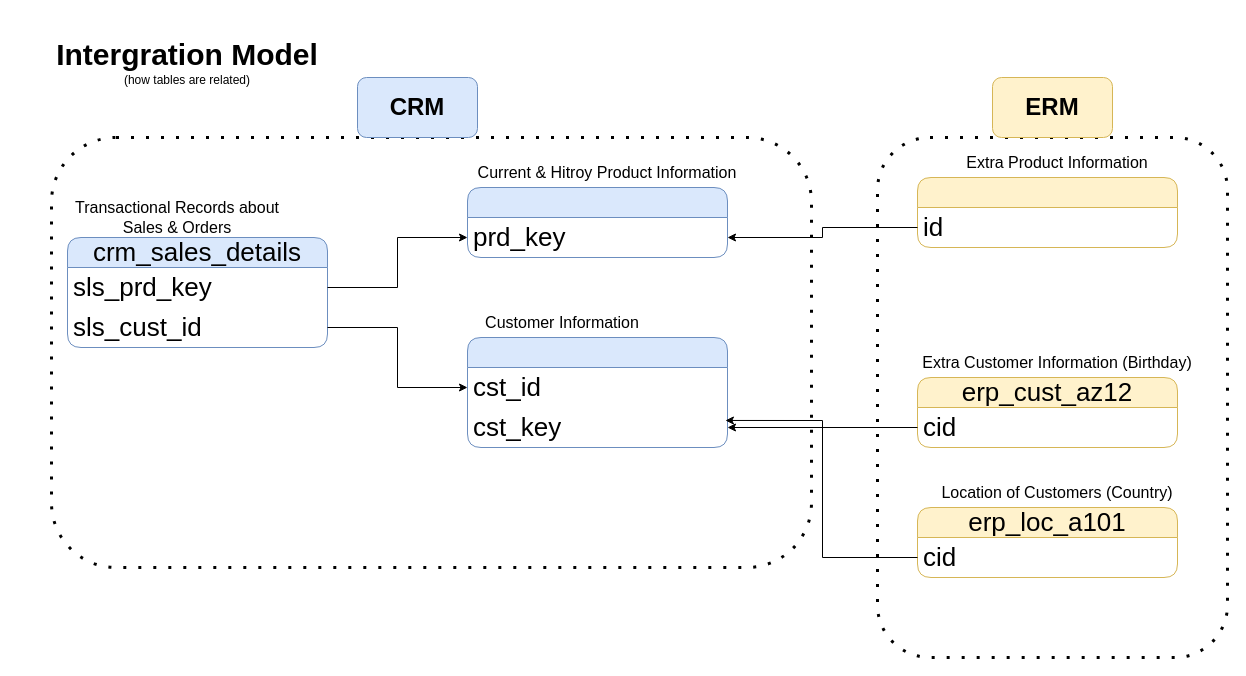
The diagram is 1246 pixels wide and 676 high, and some of its shapes have lost their labels. Each missing label, with the box of its shape:
crm_cust_info: (466, 336, 728, 448)
crm_prd_info: (466, 186, 728, 258)
erp_px_cat_g1v2: (916, 176, 1178, 248)
